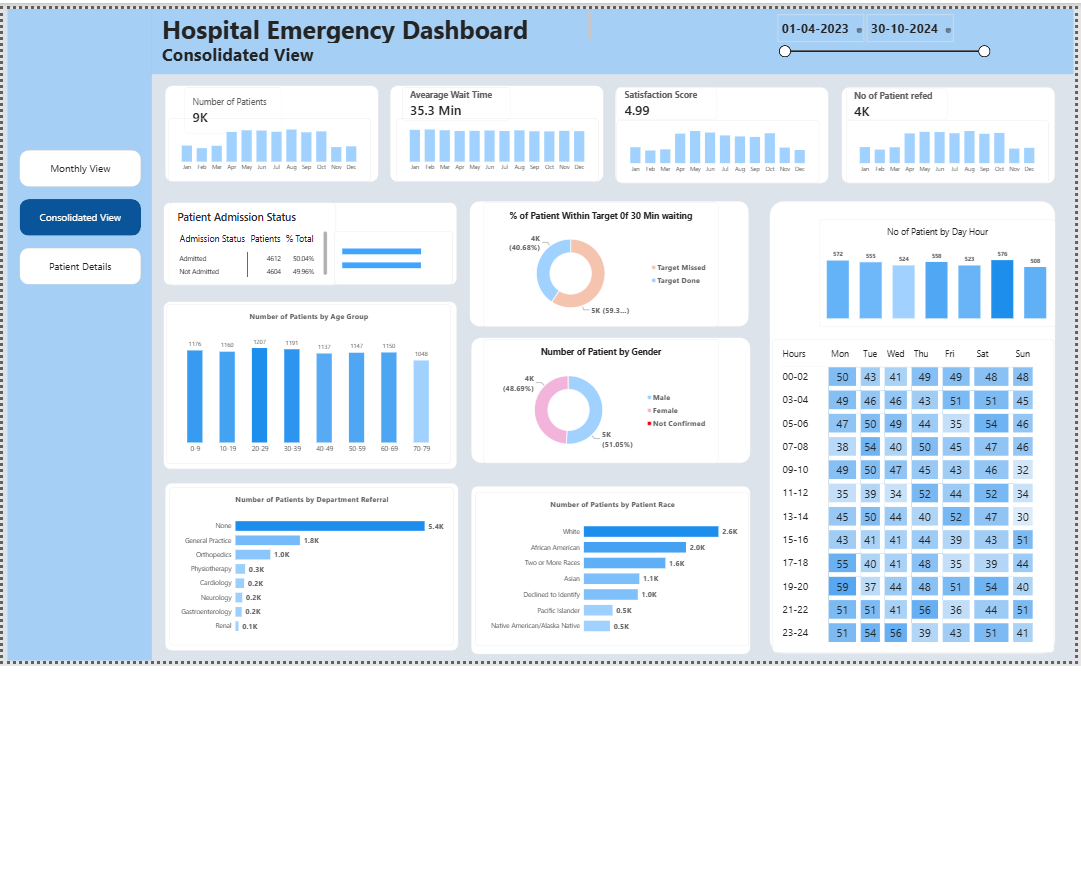

What the dashboard file says about the page in this screenshot:
{"tool":"powerbi","page":{"name":"Consolidated View","canvas":[2300,1400],"ordinal":1},"visuals":[{"type":"shape","box":[10.2,0,310,1399],"z":0},{"type":"shape","box":[319.2,0,1979.7,140],"z":1000},{"type":"textbox","box":[343,6.8,923.6,64.5],"z":2000},{"type":"textbox","box":[341.9,71,400,67.7],"z":3000},{"type":"shape","box":[346.4,163,458.4,207.1],"z":4000},{"type":"cardVisual","title":"No of Patient ","fields":{"Data":["Meaures.Number of Patients"]},"box":[388.9,166.7,208.3,100],"z":5000},{"type":"slicer","fields":{"Values":["DateTable.Date"]},"box":[1654.8,6.5,467.7,132.3],"z":6000},{"type":"columnChart","fields":{"Category":["DateTable.Month Name"],"Y":["Meaures.Number of Patients"]},"box":[355.8,234.9,435,135],"z":7000},{"type":"shape","box":[831,162.7,458.4,207.1],"z":8000},{"type":"cardVisual","fields":{"Data":["Meaures.Avearage Wait Time"]},"box":[858.3,166.7,233.3,72.9],"z":9000},{"type":"columnChart","fields":{"Category":["DateTable.Month Name"],"Y":["Avg(Hospital ER_Data.Patient Waittime)"]},"box":[842.7,234.6,435,135],"z":10000},{"type":"shape","box":[1315.6,167.6,458.4,207.1],"z":11000},{"type":"cardVisual","fields":{"Data":["Meaures.Satisfaction Score"]},"box":[1318.8,168.8,216.7,70.8],"z":12000},{"type":"columnChart","fields":{"Category":["DateTable.Month Name"],"Y":["Sum(Hospital ER_Data.Patient Satisfaction Score)"]},"box":[1317.7,239.5,435,135],"z":13000},{"type":"shape","box":[1800.3,167.4,458.4,207.1],"z":14000},{"type":"cardVisual","fields":{"Data":["Meaures.No of Patient refed"]},"box":[1810.4,170.8,218.8,68.8],"z":15000},{"type":"columnChart","fields":{"Category":["DateTable.Month Name"],"Y":["Meaures.Number of Patients"]},"box":[1810.4,239.6,435,135],"z":16000},{"type":"shape","box":[343.8,414.6,630,177],"z":17000},{"type":"pivotTable","title":"Patient Admission Status","fields":{"Rows":["Hospital ER_Data.Admission Status"],"Values":["Meaures.Number of Patients1","Meaures.Number of Patients"]},"box":[356.2,414.6,356.2,177.1],"z":18000},{"type":"barChart","fields":{"Category":["Hospital ER_Data.Admission Status"],"Y":["Meaures.Number of Patients"]},"box":[712.5,477.1,254.2,114.6],"z":19000},{"type":"shape","box":[343.8,627.1,630,360],"z":20000},{"type":"clusteredColumnChart","fields":{"Category":["Hospital ER_Data.Age Group"],"Y":["Meaures.Number of Patients"]},"box":[352.1,635.4,610.4,341.7],"z":21000},{"type":"shape","box":[347.5,1017.5,630,360],"z":22000},{"type":"clusteredBarChart","fields":{"Category":["Hospital ER_Data.Department Referral"],"Y":["Meaures.Number of Patients"]},"box":[356.4,1028.2,610.3,338.5],"z":23000},{"type":"shape","box":[1002.6,412.8,600,270],"z":24000},{"type":"donutChart","title":"% of Patient Within Target 0f 30 Min waiting","fields":{"Category":["Hospital ER_Data.Wait Time Status"],"Y":["Meaures.Number of Patients"]},"box":[1030.8,415.4,505.1,266.7],"z":25000},{"type":"shape","box":[1004,706.6,600,270],"z":26000},{"type":"donutChart","title":"Number of Patient by Gender","fields":{"Category":["Hospital ER_Data.Patient Gender"],"Y":["Meaures.Number of Patients"]},"box":[1032.2,709.1,505.1,266.7],"z":27000},{"type":"shape","box":[1005.1,1023.1,600,361.5],"z":28000},{"type":"clusteredBarChart","fields":{"Category":["Hospital ER_Data.Patient Race"],"Y":["Meaures.Number of Patients"]},"box":[1015.4,1035.9,587.2,330.8],"z":29000},{"type":"shape","box":[1644.8,413.8,613.8,972.4],"z":30000},{"type":"pivotTable","fields":{"Columns":["DateTable.Day Name"],"Rows":["Hospital ER_Data.Waiting Interval"],"Values":["Meaures.No of Patient refed"]},"box":[1653.7,709.8,604.9,673.2],"z":31000},{"type":"columnChart","title":"No of Patient by Day Hour","fields":{"Category":["DateTable.Day Name"],"Y":["Meaures.No of Patient refed"]},"box":[1751.2,451.2,507.3,231.7],"z":32000},{"type":"pageNavigator","box":[35.5,303.2,261.3,290.3],"z":32001}]}

Visuals, with their boxes on the page's 2300x1400 design canvas (x1, y1, x2, y2). These are canvas units, not pixel positions in the 1081x896 screenshot, which may show the page scaled, cropped or inside an application window:
shape: rect(10, 0, 320, 1399)
shape: rect(319, 0, 2299, 140)
textbox: rect(343, 7, 1267, 71)
textbox: rect(342, 71, 742, 139)
shape: rect(346, 163, 805, 370)
"No of Patient " cardVisual: rect(389, 167, 597, 267)
slicer - DateTable.Date: rect(1655, 6, 2122, 139)
columnChart - DateTable.Month Name x Meaures.Number of Patients: rect(356, 235, 791, 370)
shape: rect(831, 163, 1289, 370)
cardVisual - Meaures.Avearage Wait Time: rect(858, 167, 1092, 240)
columnChart - DateTable.Month Name x Avg(Hospital ER_Data.Patient Waittime): rect(843, 235, 1278, 370)
shape: rect(1316, 168, 1774, 375)
cardVisual - Meaures.Satisfaction Score: rect(1319, 169, 1536, 240)
columnChart - DateTable.Month Name x Sum(Hospital ER_Data.Patient Satisfaction Score): rect(1318, 240, 1753, 374)
shape: rect(1800, 167, 2259, 374)
cardVisual - Meaures.No of Patient refed: rect(1810, 171, 2029, 240)
columnChart - DateTable.Month Name x Meaures.Number of Patients: rect(1810, 240, 2245, 375)
shape: rect(344, 415, 974, 592)
"Patient Admission Status" pivotTable: rect(356, 415, 712, 592)
barChart - Hospital ER_Data.Admission Status x Meaures.Number of Patients: rect(712, 477, 967, 592)
shape: rect(344, 627, 974, 987)
clusteredColumnChart - Hospital ER_Data.Age Group x Meaures.Number of Patients: rect(352, 635, 962, 977)
shape: rect(348, 1018, 978, 1378)
clusteredBarChart - Hospital ER_Data.Department Referral x Meaures.Number of Patients: rect(356, 1028, 967, 1367)
shape: rect(1003, 413, 1603, 683)
"% of Patient Within Target 0f 30 Min waiting" donutChart: rect(1031, 415, 1536, 682)
shape: rect(1004, 707, 1604, 977)
"Number of Patient by Gender" donutChart: rect(1032, 709, 1537, 976)
shape: rect(1005, 1023, 1605, 1385)
clusteredBarChart - Hospital ER_Data.Patient Race x Meaures.Number of Patients: rect(1015, 1036, 1603, 1367)
shape: rect(1645, 414, 2259, 1386)
pivotTable - DateTable.Day Name x Hospital ER_Data.Waiting Interval: rect(1654, 710, 2259, 1383)
"No of Patient by Day Hour" columnChart: rect(1751, 451, 2258, 683)
pageNavigator: rect(36, 303, 297, 594)
